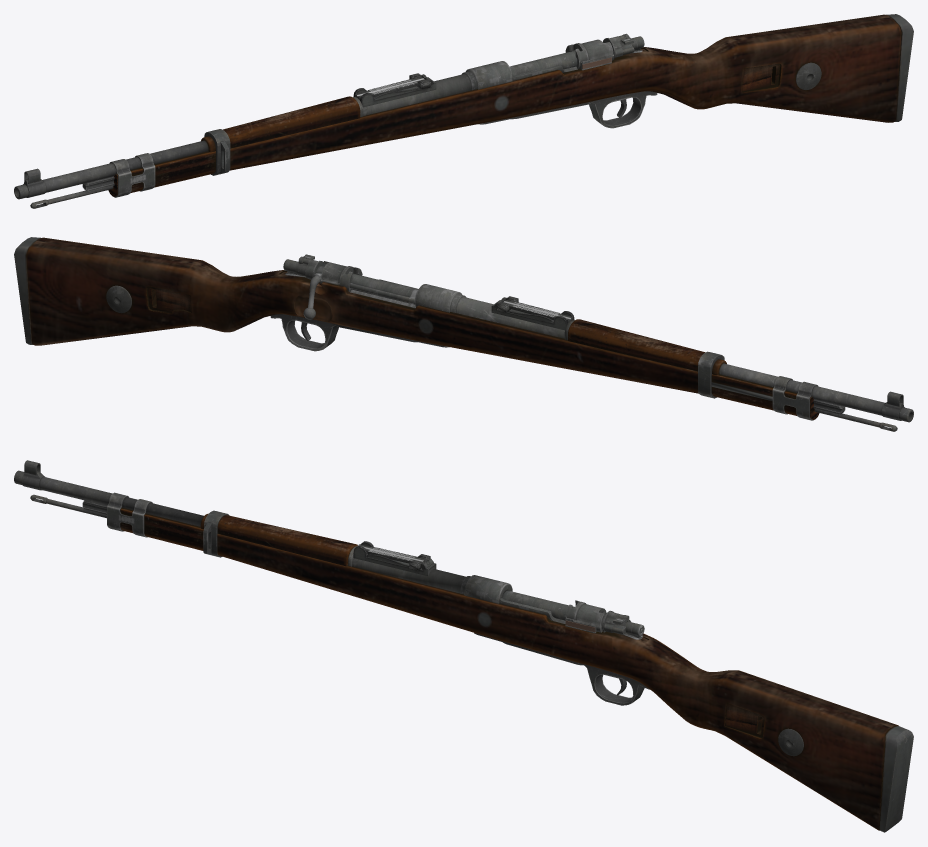
Rendered from kar98k.glb.
3 views of the same model, one above another, from view 1: azimuth 30°, elevation 25°; view 2: azimuth 150°, elevation 25°; view 3: azimuth 330°, elevation 25° (orthographic).
Visible parts, largest first — view 1: b_low, a_low, d_low, c_low, e_low; view 2: b_low, a_low, d_low, c_low, e_low; view 3: b_low, a_low, d_low, c_low, e_low.
Boxes of the visible parts, x1,y1,x2,y2 form: b_low: (108,14,913,196); a_low: (14,91,657,208); d_low: (353,39,642,116); c_low: (509,33,644,75); e_low: (353,73,436,107); b_low: (14,237,819,419); a_low: (270,314,913,431); d_low: (285,261,574,339); c_low: (283,254,418,319); e_low: (491,296,574,330); b_low: (120,507,913,832); a_low: (14,460,649,705); d_low: (348,546,642,639); c_low: (502,590,644,637); e_low: (353,541,436,575).
Size of what is drawn, in the model's own units: 2 by 0.341 by 0.1091.
Materials: 5 (5 with a texture image).
